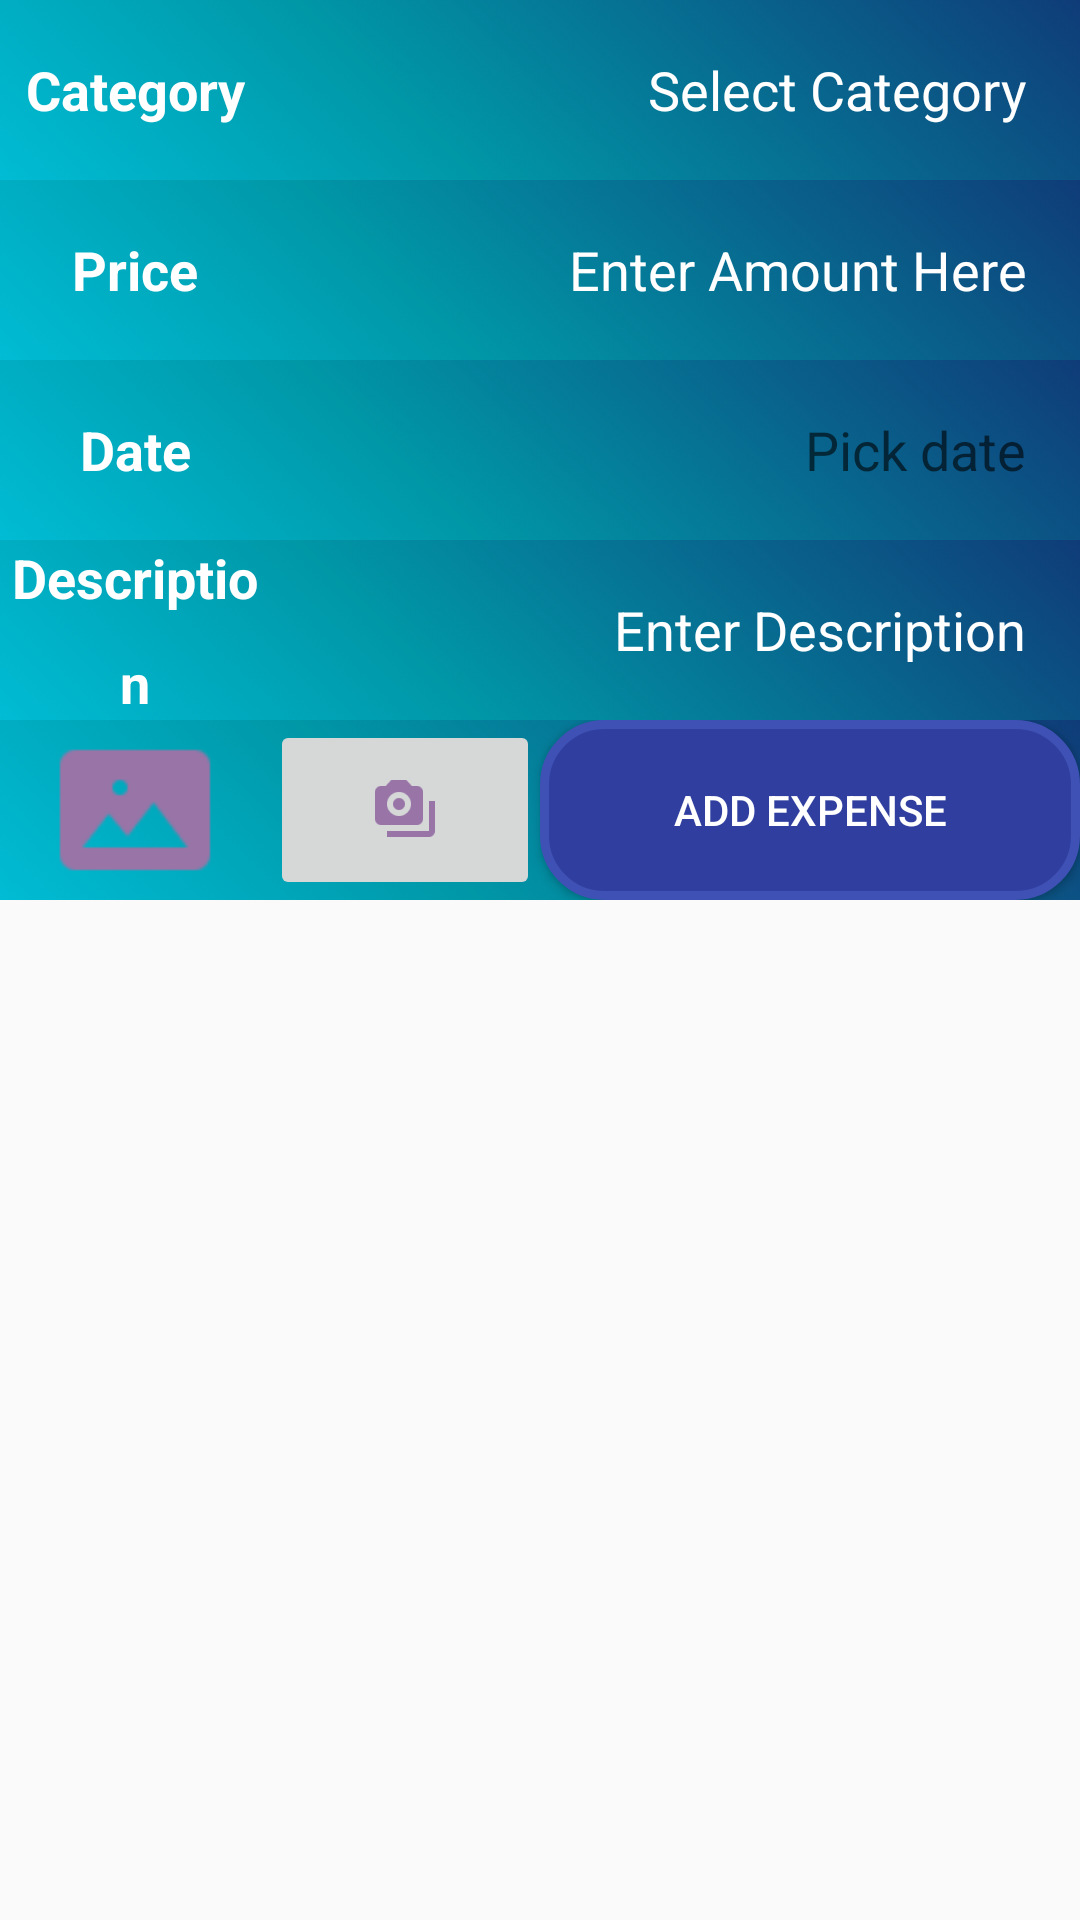

Point at icon controls on the screen. Image size 1080*1920, points as point (x, y).
camera: point (405, 810)
